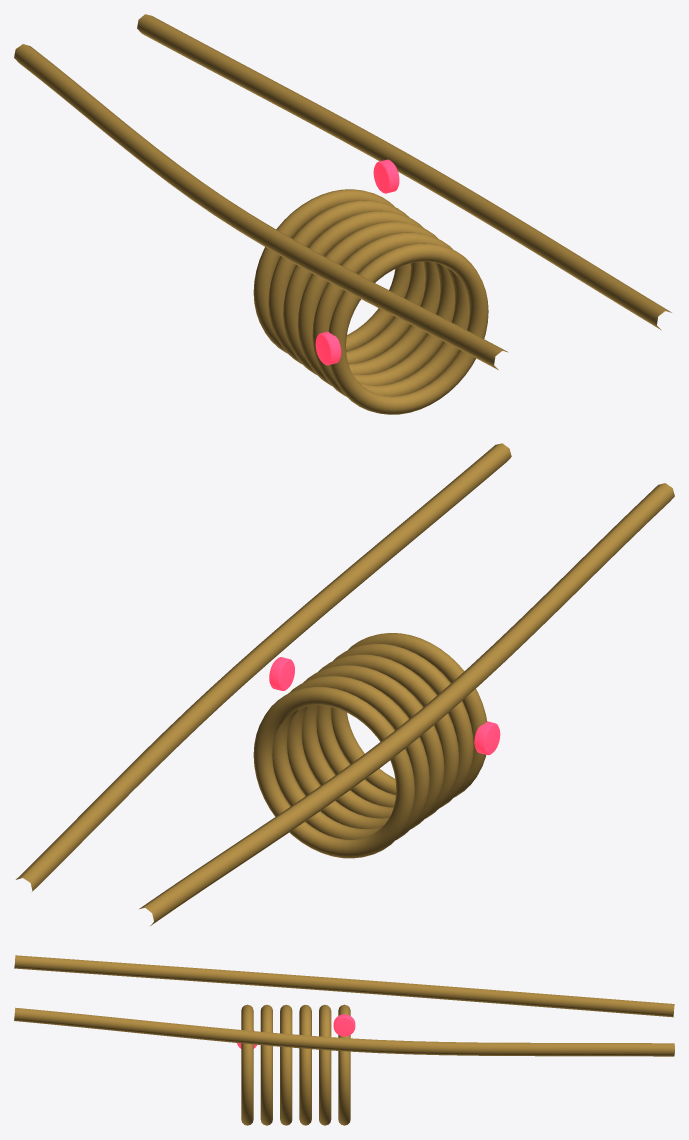
File: tower_filament_ramp_s3.glb
3 renders of one model, top to bottom at view 1: azimuth 30°, elevation 25°; view 2: azimuth 150°, elevation 25°; view 3: azimuth 270°, elevation 25°, orthographic. The views are drawn at different scales.
Parts seen in each view (by area): view 1: filament_heat_pipe_l, filament_heat_pipe_r, filament_coil_sleeve0, filament_coil_sleeve2, filament_coil_sleeve3, filament_coil_sleeve1, filament_coil_sleeve4, filament_coil_sleeve5, filament_up_ramp_l2_stud, filament_up_ramp_l3_stud; view 2: filament_heat_pipe_r, filament_heat_pipe_l, filament_coil_sleeve5, filament_coil_sleeve4, filament_coil_sleeve3, filament_coil_sleeve2, filament_coil_sleeve1, filament_coil_sleeve0, filament_up_ramp_l2_stud, filament_up_ramp_l3_stud; view 3: filament_heat_pipe_l, filament_heat_pipe_r, filament_coil_sleeve2, filament_coil_sleeve3, filament_coil_sleeve0, filament_coil_sleeve1, filament_coil_sleeve4, filament_coil_sleeve5, filament_up_ramp_l2_stud.
Part boxes in pixels (x1=…): filament_heat_pipe_l: x1=137, y1=14, x2=671, y2=330; filament_heat_pipe_r: x1=14, y1=44, x2=508, y2=370; filament_coil_sleeve0: x1=328, y1=243, x2=488, y2=414; filament_coil_sleeve2: x1=297, y1=221, x2=454, y2=385; filament_coil_sleeve3: x1=283, y1=210, x2=440, y2=374; filament_coil_sleeve1: x1=312, y1=232, x2=469, y2=396; filament_coil_sleeve4: x1=268, y1=200, x2=425, y2=363; filament_coil_sleeve5: x1=253, y1=189, x2=410, y2=353; filament_up_ramp_l2_stud: x1=373, y1=159, x2=399, y2=193; filament_up_ramp_l3_stud: x1=315, y1=331, x2=341, y2=365; filament_heat_pipe_r: x1=139, y1=483, x2=674, y2=925; filament_heat_pipe_l: x1=16, y1=443, x2=511, y2=891; filament_coil_sleeve5: x1=253, y1=686, x2=414, y2=858; filament_coil_sleeve4: x1=272, y1=676, x2=429, y2=839; filament_coil_sleeve3: x1=287, y1=665, x2=444, y2=829; filament_coil_sleeve2: x1=302, y1=654, x2=459, y2=818; filament_coil_sleeve1: x1=316, y1=643, x2=473, y2=807; filament_coil_sleeve0: x1=331, y1=633, x2=487, y2=797; filament_up_ramp_l2_stud: x1=269, y1=657, x2=294, y2=690; filament_up_ramp_l3_stud: x1=474, y1=721, x2=500, y2=755; filament_heat_pipe_l: x1=14, y1=1007, x2=674, y2=1056; filament_heat_pipe_r: x1=14, y1=955, x2=674, y2=1017; filament_coil_sleeve2: x1=280, y1=1004, x2=292, y2=1125; filament_coil_sleeve3: x1=299, y1=1004, x2=311, y2=1125; filament_coil_sleeve0: x1=241, y1=1004, x2=253, y2=1125; filament_coil_sleeve1: x1=260, y1=1004, x2=272, y2=1125; filament_coil_sleeve4: x1=319, y1=1005, x2=331, y2=1125; filament_coil_sleeve5: x1=338, y1=1004, x2=350, y2=1125; filament_up_ramp_l2_stud: x1=333, y1=1014, x2=355, y2=1036.
Size of the model in its own units: 0.3985 by 0.3939 by 1.7.
